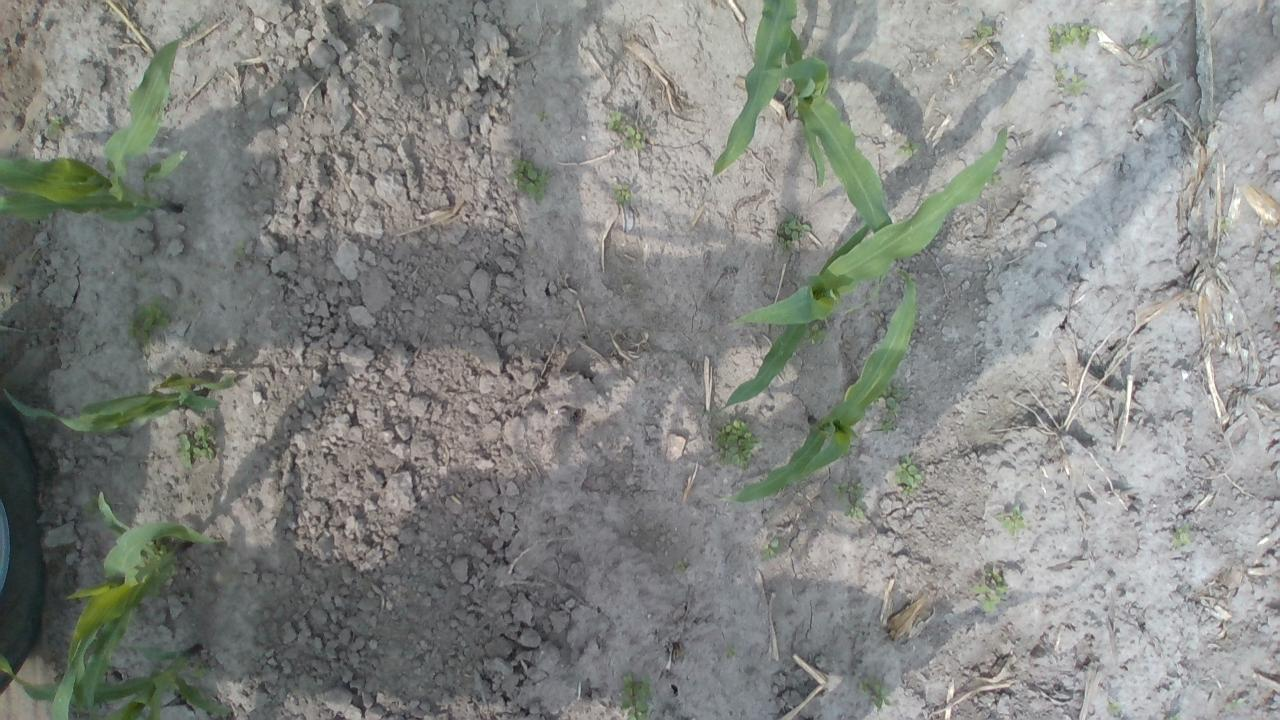Maize: (724, 124, 1014, 330), (714, 268, 924, 506), (49, 490, 230, 718), (3, 23, 204, 226), (760, 2, 910, 260), (706, 0, 808, 179), (0, 367, 238, 439), (0, 652, 233, 716)
Weeds: (131, 300, 183, 352), (709, 416, 756, 472), (176, 428, 218, 466), (883, 378, 910, 436), (606, 112, 646, 150), (829, 486, 868, 523), (510, 161, 550, 197), (622, 678, 655, 720), (1050, 19, 1092, 51), (893, 456, 925, 494), (976, 576, 1007, 610), (778, 216, 811, 243), (996, 509, 1032, 533), (862, 680, 888, 711), (1060, 76, 1086, 92), (975, 26, 994, 44), (1174, 526, 1188, 545), (764, 541, 781, 556), (614, 182, 628, 200), (1138, 33, 1152, 45)
